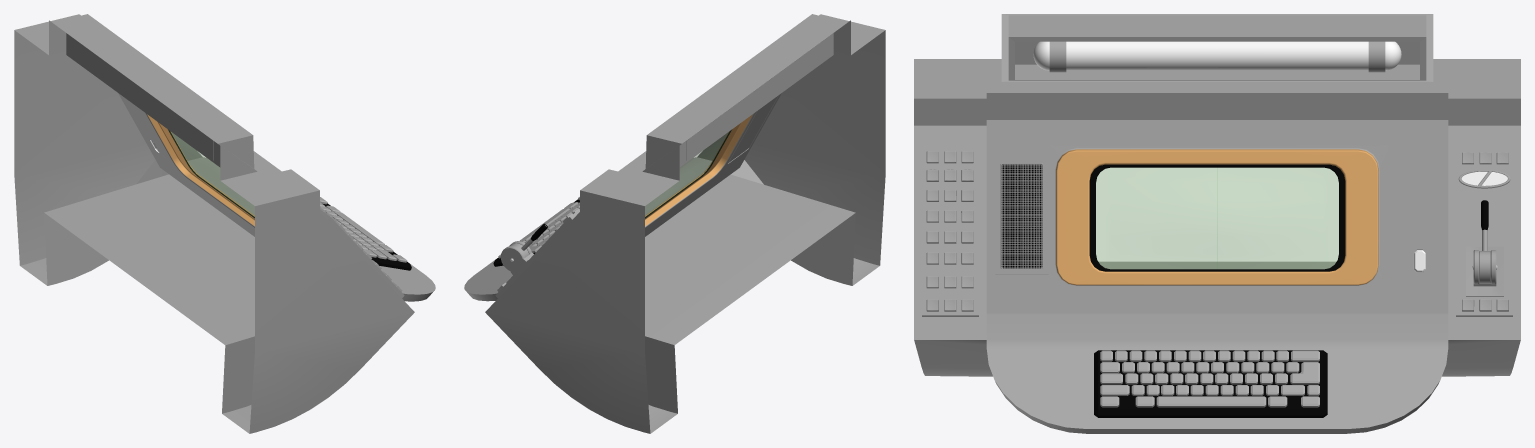
File: Lost Robot Console Wall.fbx
3 renders of one model, left to right at view 1: azimuth 30°, elevation 25°; view 2: azimuth 150°, elevation 25°; view 3: azimuth 270°, elevation 25°, orthographic. The views are drawn at different scales.
Parts seen in each view (by area): view 1: Lever_Housing1, pCube112; view 2: Lever_Housing1, pCube112; view 3: Lever_Housing1, pCube112, Light, pCube113, pCube2, Butttons, pCylinder79, Light_Housing.
Boxes of the visible parts, <box> form: Lever_Housing1: <box>14,14,435,433</box>; pCube112: <box>320,197,407,262</box>; Lever_Housing1: <box>464,14,885,433</box>; pCube112: <box>498,197,579,258</box>; Lever_Housing1: <box>914,14,1520,433</box>; pCube112: <box>1100,350,1319,407</box>; Light: <box>1033,41,1401,70</box>; pCube113: <box>1094,350,1327,417</box>; pCube2: <box>995,157,1048,274</box>; Butttons: <box>926,151,1508,311</box>; pCylinder79: <box>1001,164,1042,268</box>; Light_Housing: <box>1049,41,1385,72</box>.
Size of the model in its own units: 5.57 by 5.95 by 9.72.
